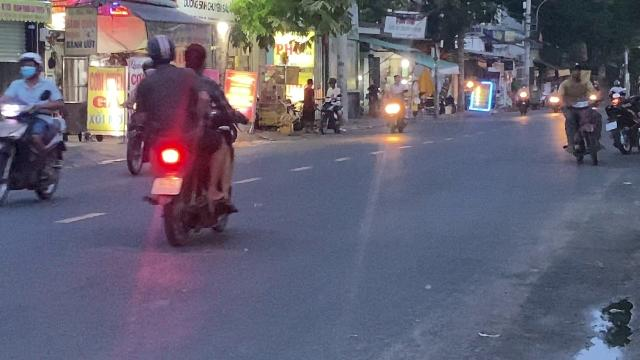helmet: (145, 34, 177, 66), (16, 50, 44, 80)
licenseplate: (152, 178, 182, 195)
motorcyclist: (123, 34, 244, 250), (1, 50, 72, 209)
nohelmet: (180, 43, 208, 73)
